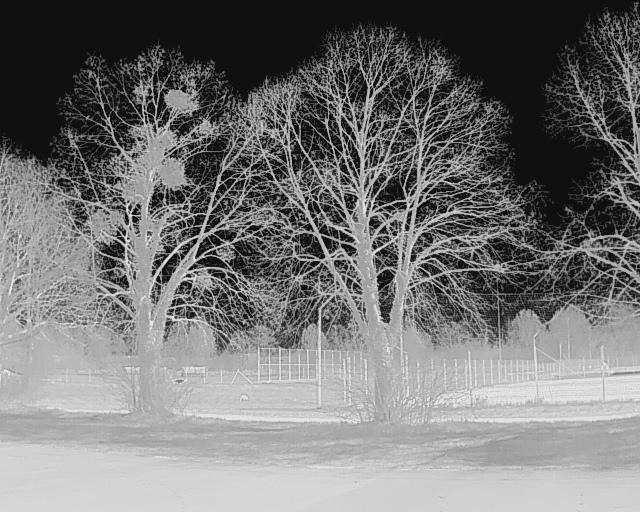drone: (259, 125, 290, 141)
